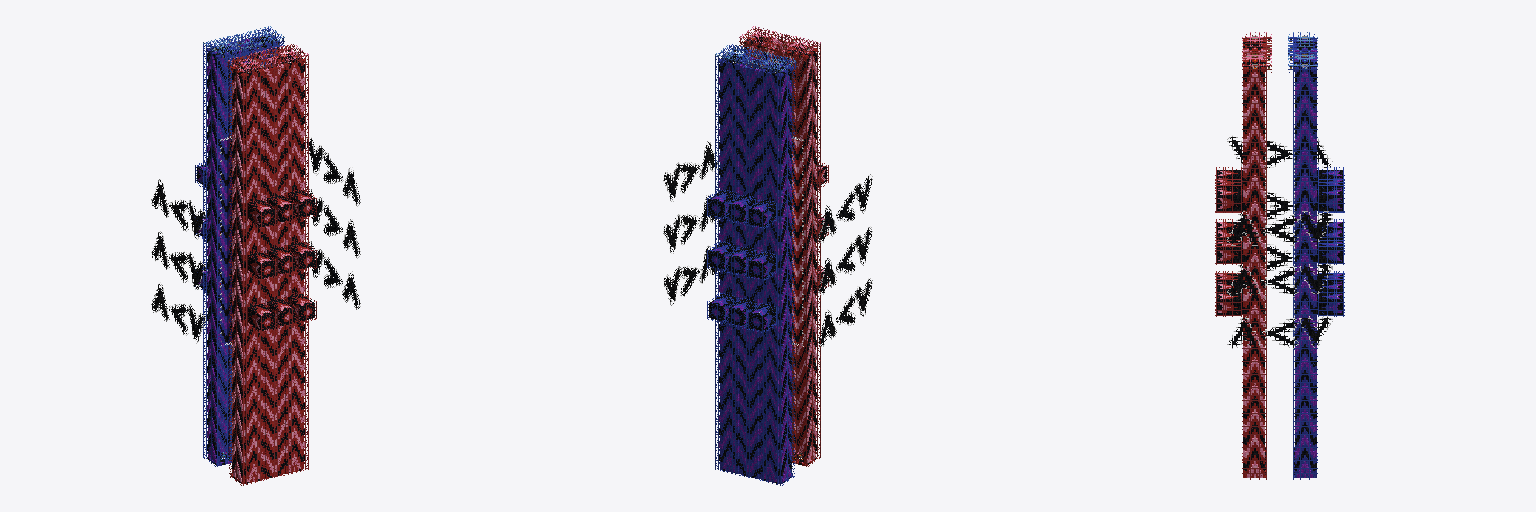
3 renders of one model, left to right at view 1: azimuth 30°, elevation 25°; view 2: azimuth 150°, elevation 25°; view 3: azimuth 270°, elevation 25°, orthographic.
Size of the model in its own units: 103 by 256 by 73.
46 materials, 44 textured.